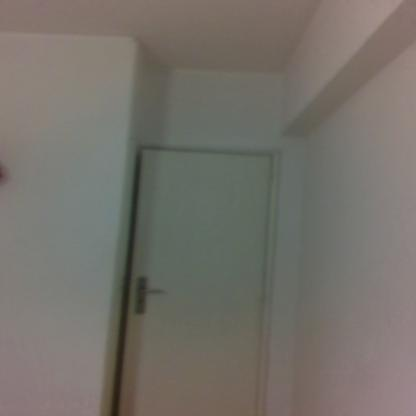door: (134, 151, 270, 415)
hinged: (262, 292, 266, 308), (269, 168, 272, 188)
lever: (140, 286, 168, 296)
